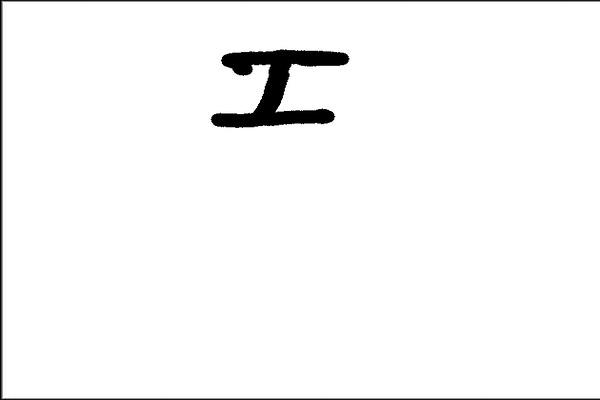i: (200, 38, 353, 134)
